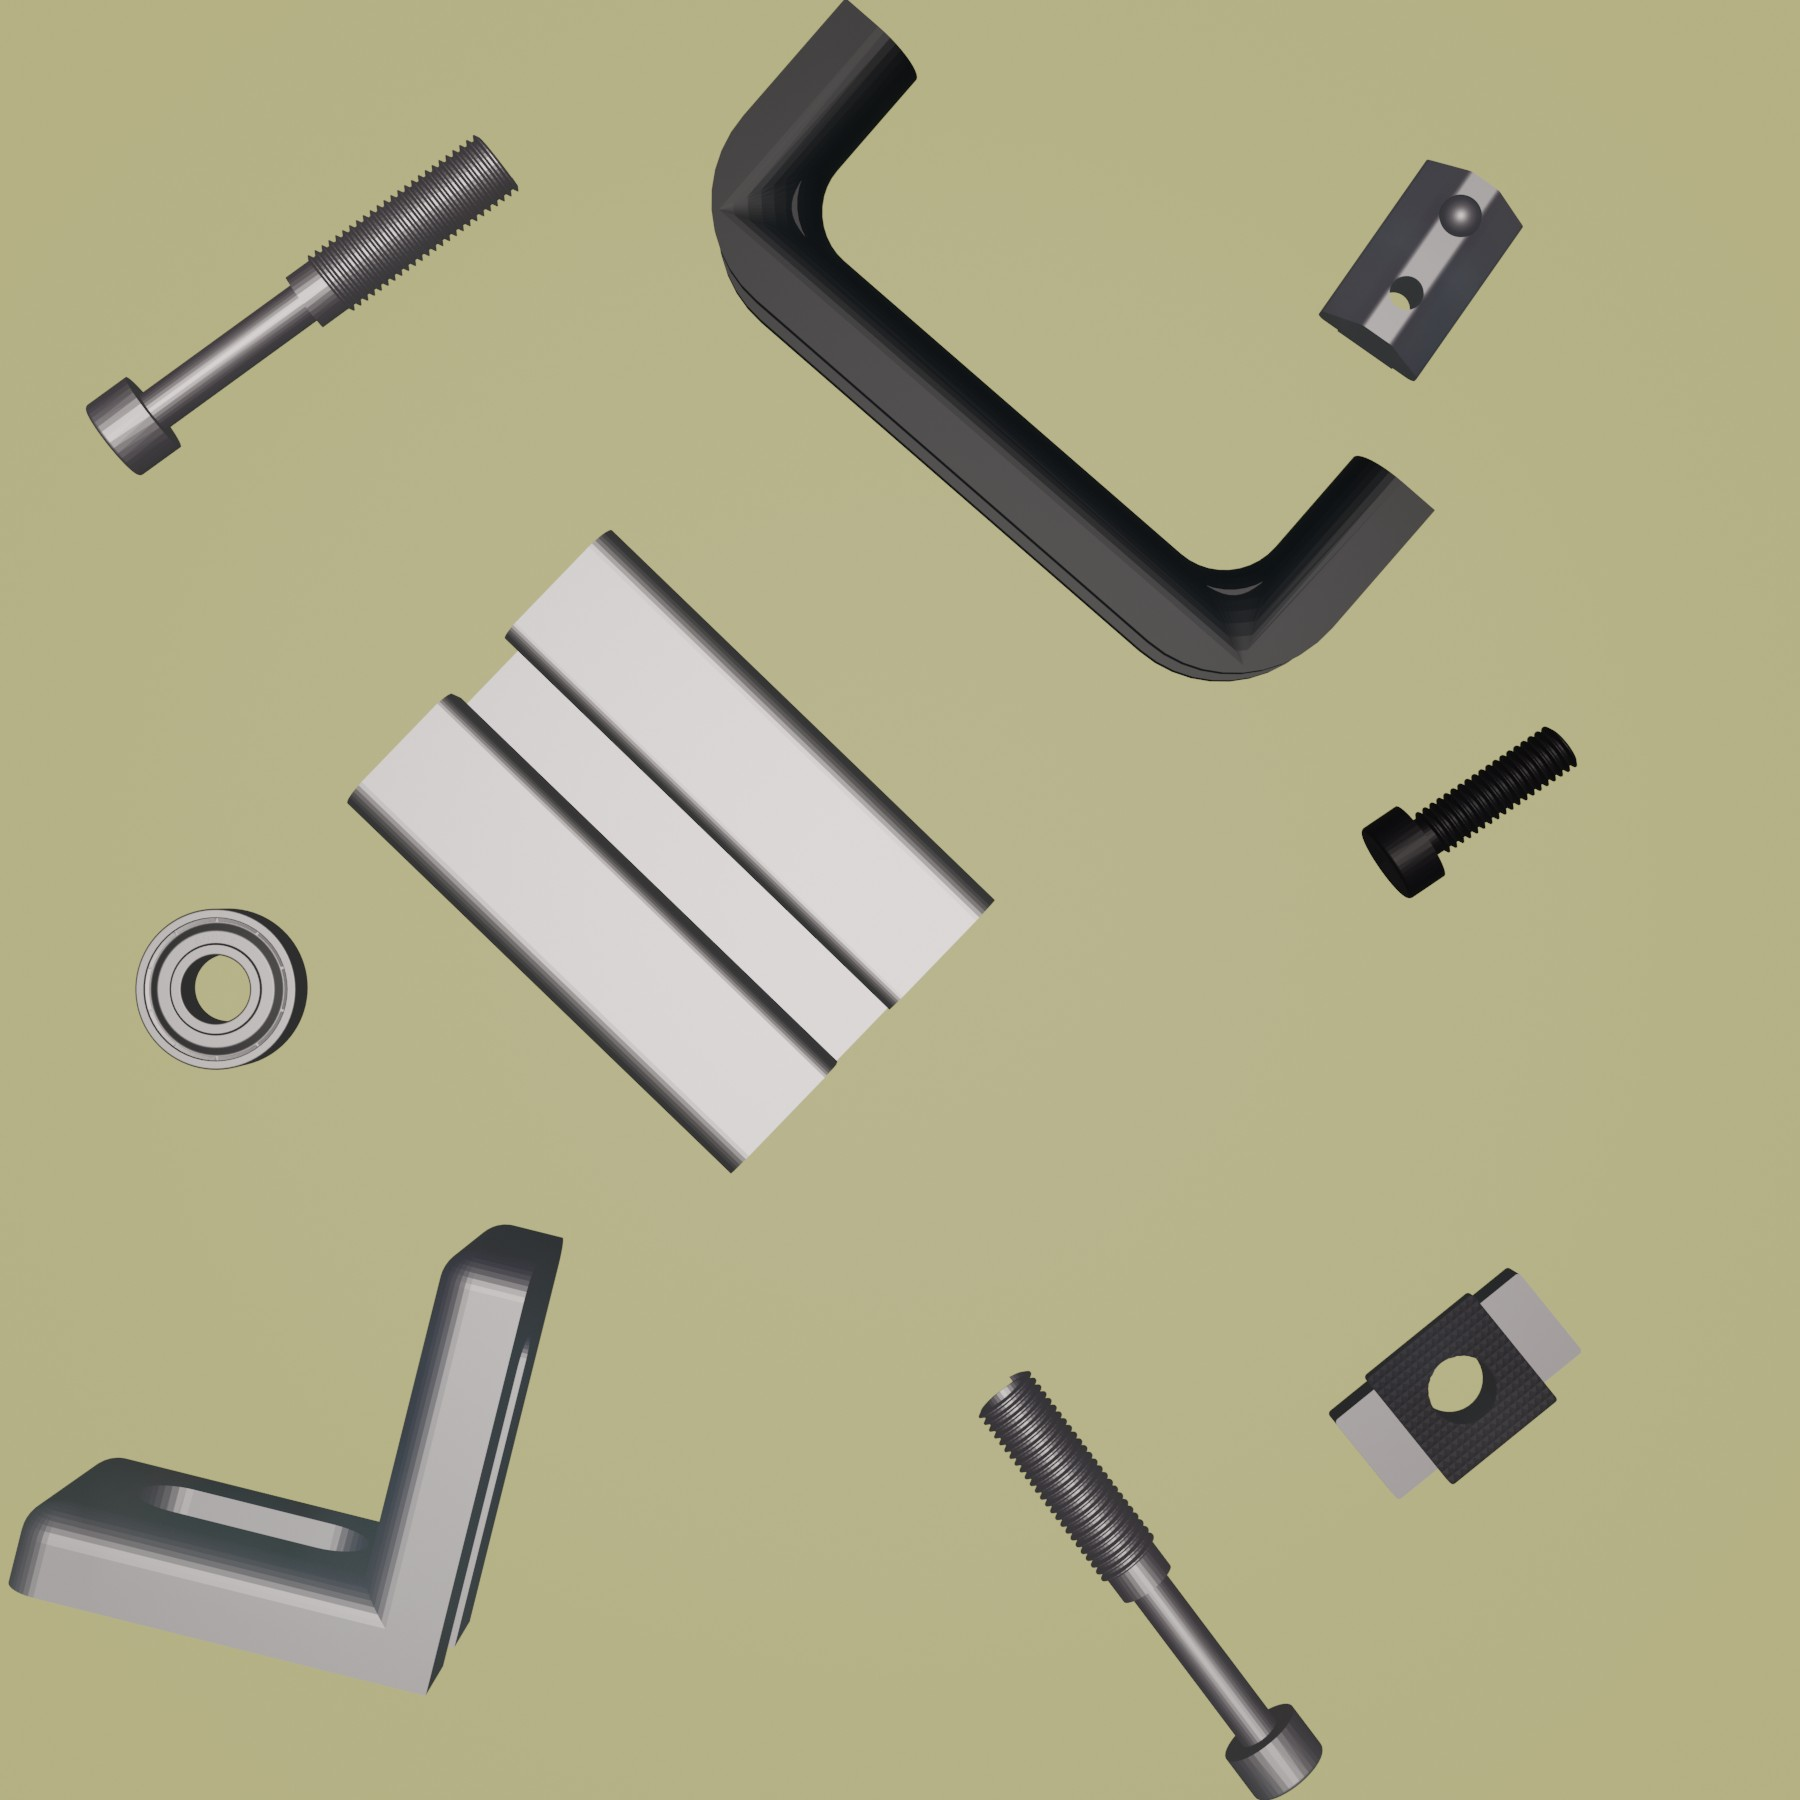Aluminium Extension: (340, 527, 996, 1175)
Ball Bearing: (134, 903, 308, 1071)
Multiwinkel: (8, 1223, 565, 1699)
Pull Handle: (705, 2, 1439, 686)
Shoulder Socket Head Cap Screw: (82, 130, 521, 475), (977, 1370, 1325, 1800)
Socket Head Cap Screw: (1358, 724, 1581, 898)
T Nut Square: (1327, 1263, 1586, 1503)
T Spring Nut: (1317, 158, 1525, 381)
